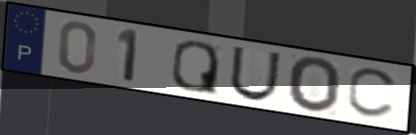0: (56, 20, 99, 76)
1: (114, 27, 140, 86)
C: (345, 67, 402, 122)
O: (286, 55, 344, 115)
Q: (169, 38, 221, 97)
U: (227, 44, 284, 103)
